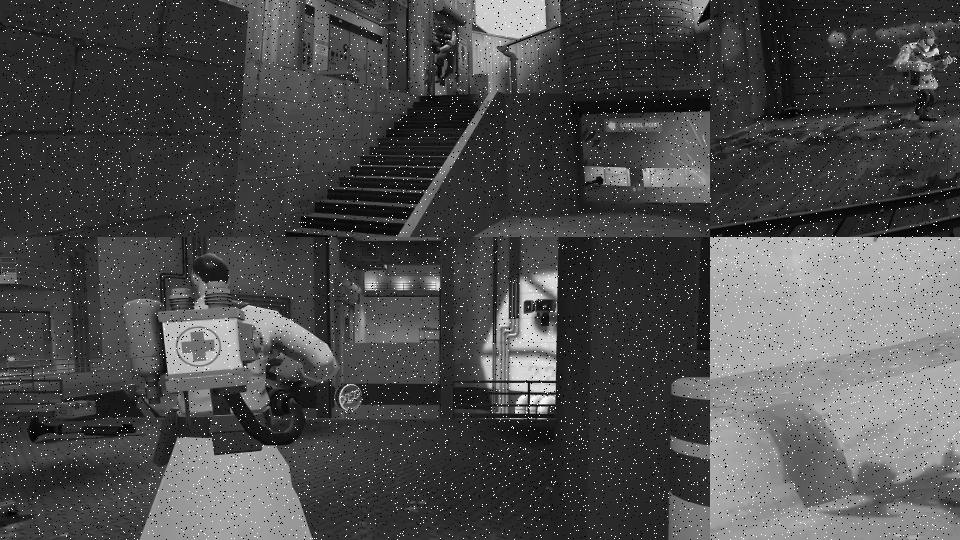Enemy: (112, 252, 338, 540), (888, 26, 959, 128), (431, 22, 459, 86)
